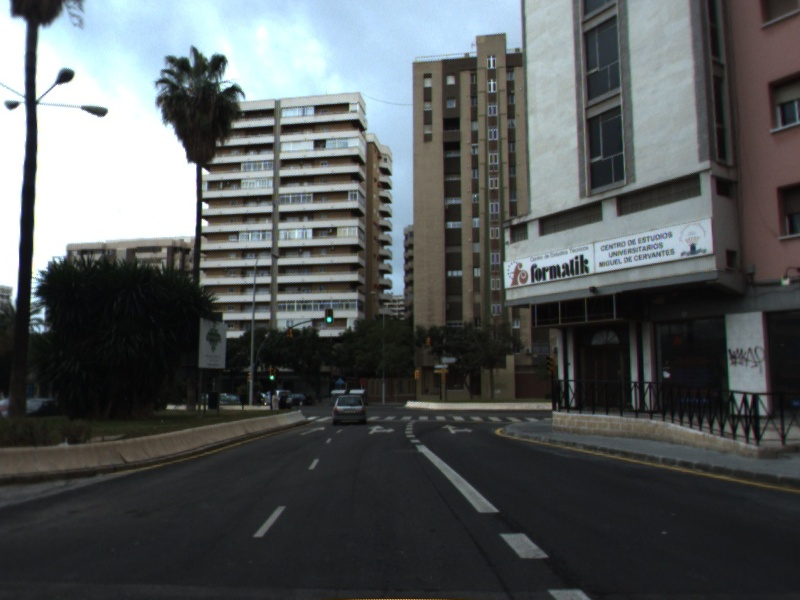STRAIGHT: (296, 424, 327, 437)
STRAIGHT_RIGHT: (438, 422, 476, 436), (365, 422, 398, 436)
